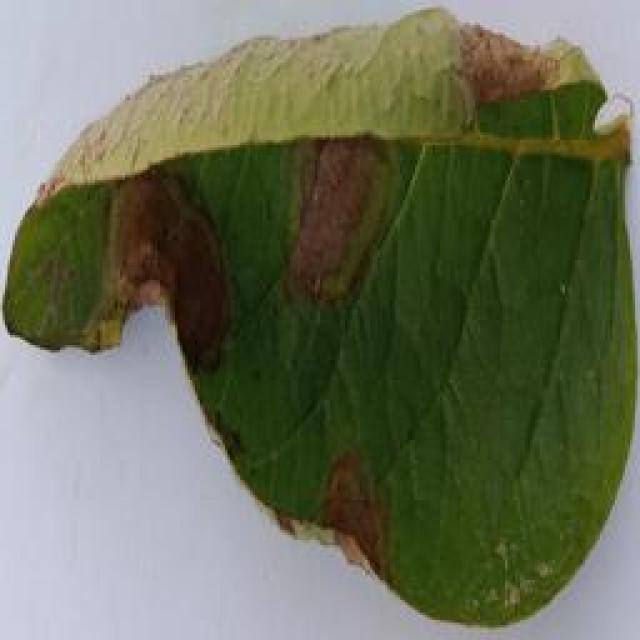Potato_Late_Blight: (5, 11, 627, 629)
